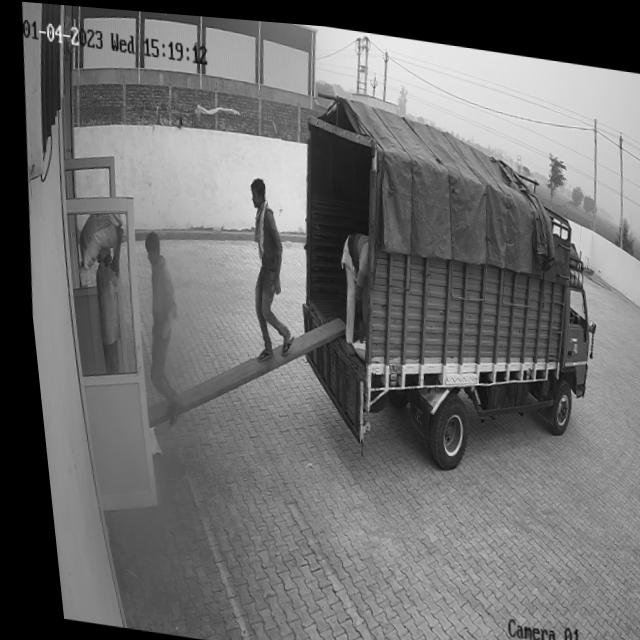sack: (66, 206, 124, 278)
